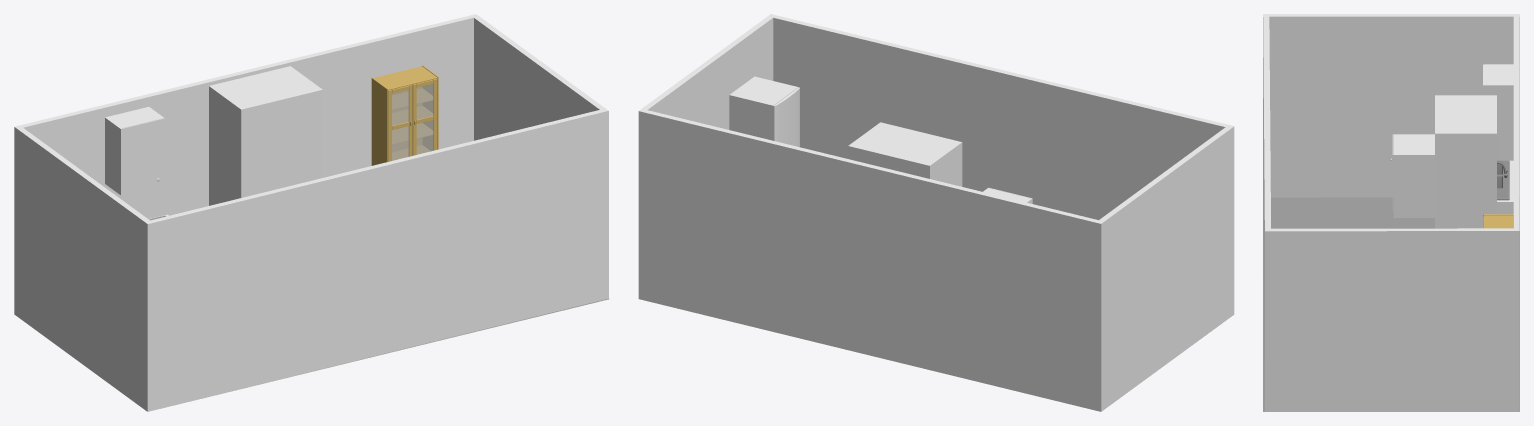
File: tegel.obj
3 views of the same model, side by side, from view 1: azimuth 30°, elevation 25°; view 2: azimuth 150°, elevation 25°; view 3: azimuth 270°, elevation 25° (orthographic). The views are drawn at different scales.
Parts seen in each view (by area): view 1: wall_3_16, wall_4_22, wall_1_5, Chimney_52, wall_2_11, UpperCabinet_32, sweethome3d_opening_on_hinge_1_door_62, Corps_60, sweethome3d_window_pane_on_hinge_2_38, sweethome3d_window_pane_on_hinge_1_35, wall_3_18, wall_1_6 (+4 smaller); view 2: wall_1_4, wall_3_17, wall_4_22, wall_2_11, Chimney_52, Corps_82, sweethome3d_opening_on_hinge_1_door_3_86, wall_3_18, wall_1_6, wall_1_7, wall_3_19, wall_4_23; view 3: wall_2_10, wall_4_23, Chimney_52, ground_1, Corps_55, Corps_60, wall_1_6, wall_1_7, wall_3_18, wall_3_19, wall_3_16, wall_4_24 (+7 smaller).
Part boxes in pixels (left/top/right/bottom): wall_3_16: left=147, top=111, right=608, bottom=411; wall_4_22: left=14, top=127, right=147, bottom=411; wall_1_5: left=23, top=17, right=473, bottom=218; Chimney_52: left=209, top=66, right=322, bottom=205; wall_2_11: left=474, top=18, right=599, bottom=140; UpperCabinet_32: left=371, top=65, right=438, bottom=165; sweethome3d_opening_on_hinge_1_door_62: left=120, top=118, right=164, bottom=195; Corps_60: left=105, top=107, right=163, bottom=194; sweethome3d_window_pane_on_hinge_2_38: left=416, top=84, right=433, bottom=154; sweethome3d_window_pane_on_hinge_1_35: left=392, top=90, right=408, bottom=160; wall_3_18: left=148, top=110, right=608, bottom=223; wall_1_6: left=19, top=14, right=475, bottom=126; wall_1_4: left=638, top=111, right=1095, bottom=410; wall_3_17: left=773, top=18, right=1225, bottom=219; wall_4_22: left=1098, top=126, right=1234, bottom=411; wall_2_11: left=648, top=18, right=773, bottom=129; Chimney_52: left=848, top=122, right=962, bottom=186; Corps_82: left=729, top=76, right=798, bottom=140; sweethome3d_opening_on_hinge_1_door_3_86: left=773, top=88, right=799, bottom=147; wall_3_18: left=771, top=14, right=1233, bottom=126; wall_1_6: left=639, top=110, right=1097, bottom=222; wall_1_7: left=644, top=110, right=1099, bottom=221; wall_3_19: left=772, top=16, right=1228, bottom=127; wall_4_23: left=1095, top=223, right=1098, bottom=410; wall_2_10: left=1265, top=231, right=1519, bottom=411; wall_4_23: left=1269, top=16, right=1519, bottom=197; Chimney_52: left=1435, top=95, right=1496, bottom=228; ground_1: left=1263, top=197, right=1519, bottom=411; Corps_55: left=1393, top=134, right=1434, bottom=217; Corps_60: left=1484, top=64, right=1513, bottom=148; wall_1_6: left=1516, top=16, right=1519, bottom=230; wall_1_7: left=1513, top=16, right=1516, bottom=229; wall_3_18: left=1263, top=14, right=1267, bottom=230; wall_3_19: left=1266, top=15, right=1270, bottom=229; wall_3_16: left=1263, top=17, right=1264, bottom=400; wall_4_24: left=1263, top=14, right=1519, bottom=15.
Bounding box in the file's own units: 628 × 250 × 314.
